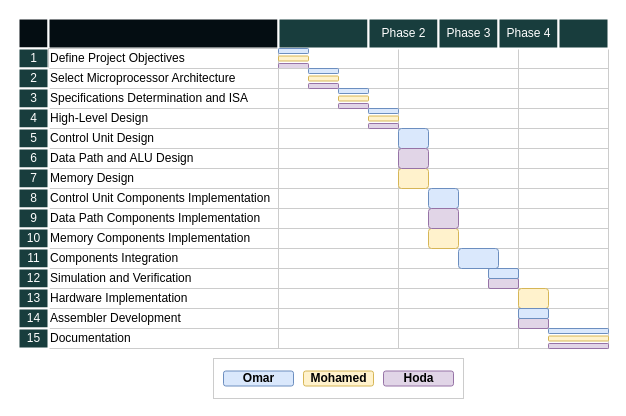
Image size: 626x416. Some labels were removed from this diagram. The centre of each missing label's shape, as x and y in pixels:
Phase 1: (x=323, y=33)
Phase 5: (x=583, y=33)
Task Name: (x=163, y=33)
